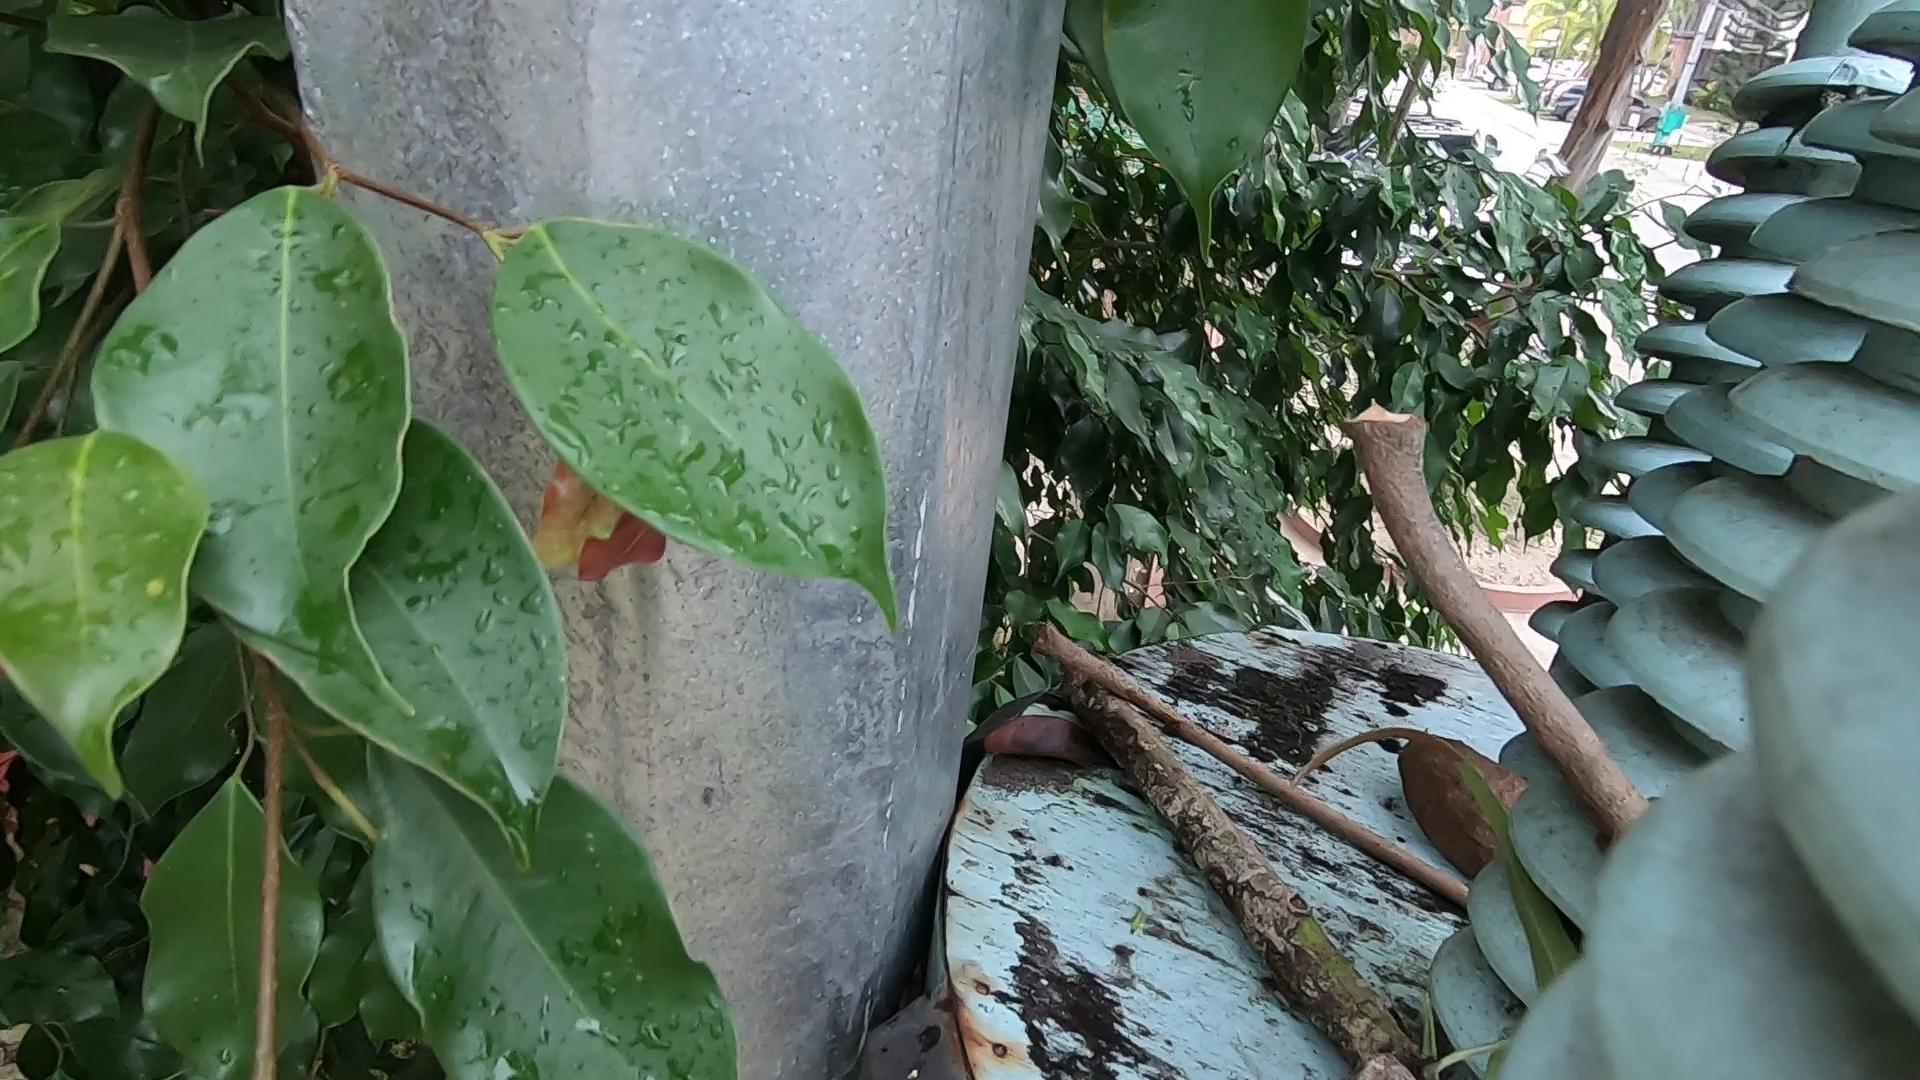branch with leaves: (1015, 626, 1436, 1080)
leaf: (976, 699, 1104, 793)
mahogany fruit: (1327, 659, 1607, 876)
tree branch: (1329, 384, 1643, 819), (1010, 611, 1464, 890)
